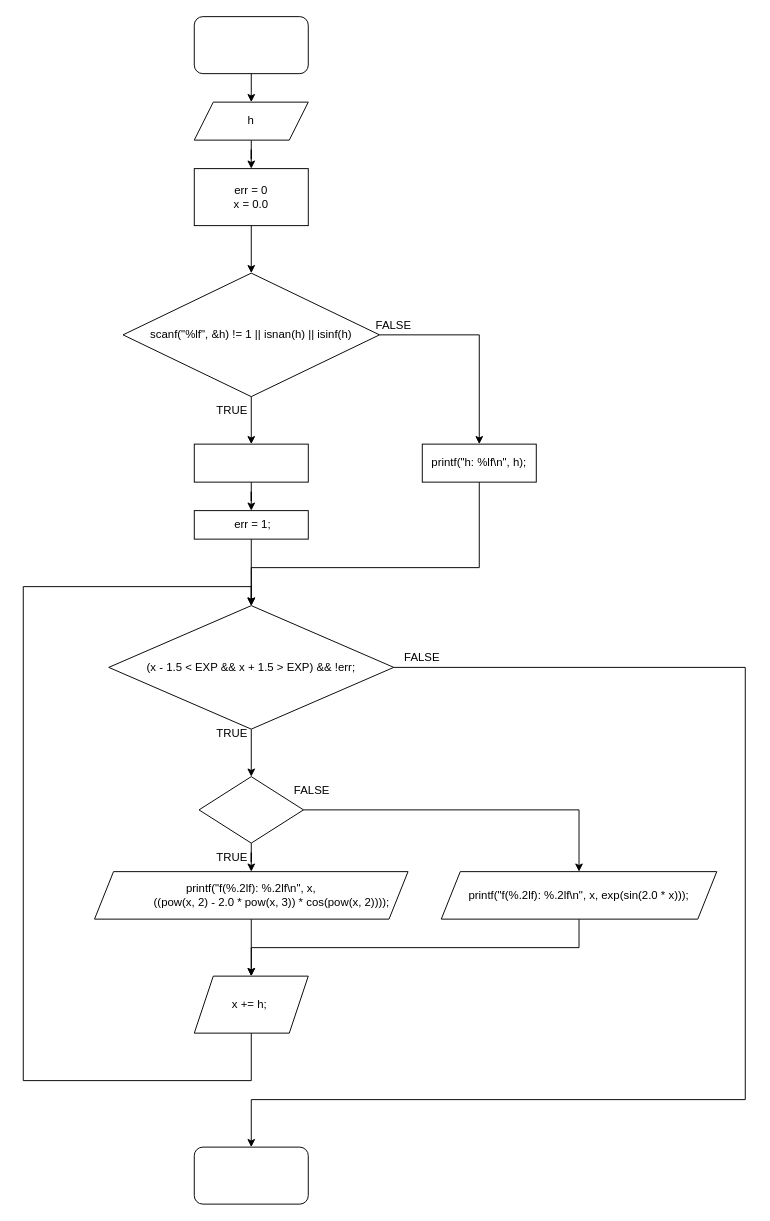
Image size: 770x1221. Some labels were removed from this diagram. Here are the shapes that lost their labels. From the top down, the box of each, then its label:
(193, 16, 308, 74): START
(193, 443, 308, 482): printf("h is not corect!\n");
(198, 776, 304, 843): x <= 0
(193, 1146, 308, 1204): END
